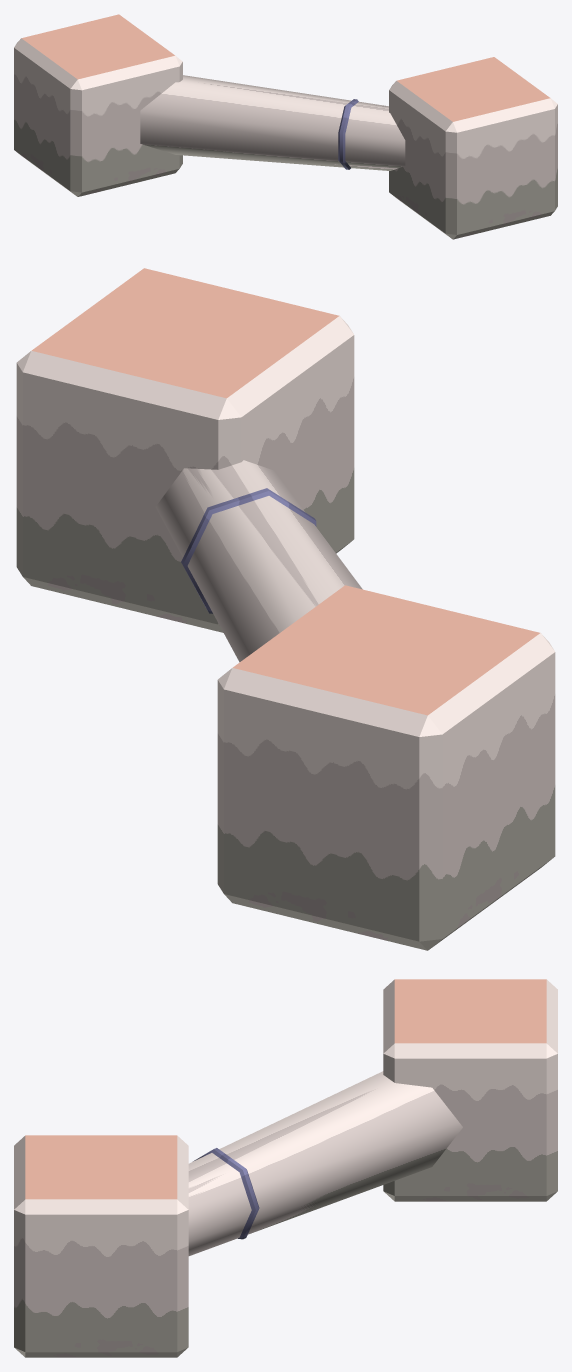
File: R4C_STRUT_DIAG_2D_LOD1.glb
3 views of the same model, one above another, from view 1: azimuth 30°, elevation 25°; view 2: azimuth 150°, elevation 25°; view 3: azimuth 270°, elevation 25° (orthographic). The views are drawn at different scales.
Parts seen in each view (by area): view 1: R4C_STRUT_DIAG_2D_LOD1; view 2: R4C_STRUT_DIAG_2D_LOD1; view 3: R4C_STRUT_DIAG_2D_LOD1.
Boxes of the visible parts, <box> form: R4C_STRUT_DIAG_2D_LOD1: <box>14,14,557,239</box>; R4C_STRUT_DIAG_2D_LOD1: <box>16,268,555,950</box>; R4C_STRUT_DIAG_2D_LOD1: <box>14,979,557,1357</box>.
Bounding box in the file's own units: 1.62 × 0.52 × 1.62.
Materials: 3 (3 with a texture image).
